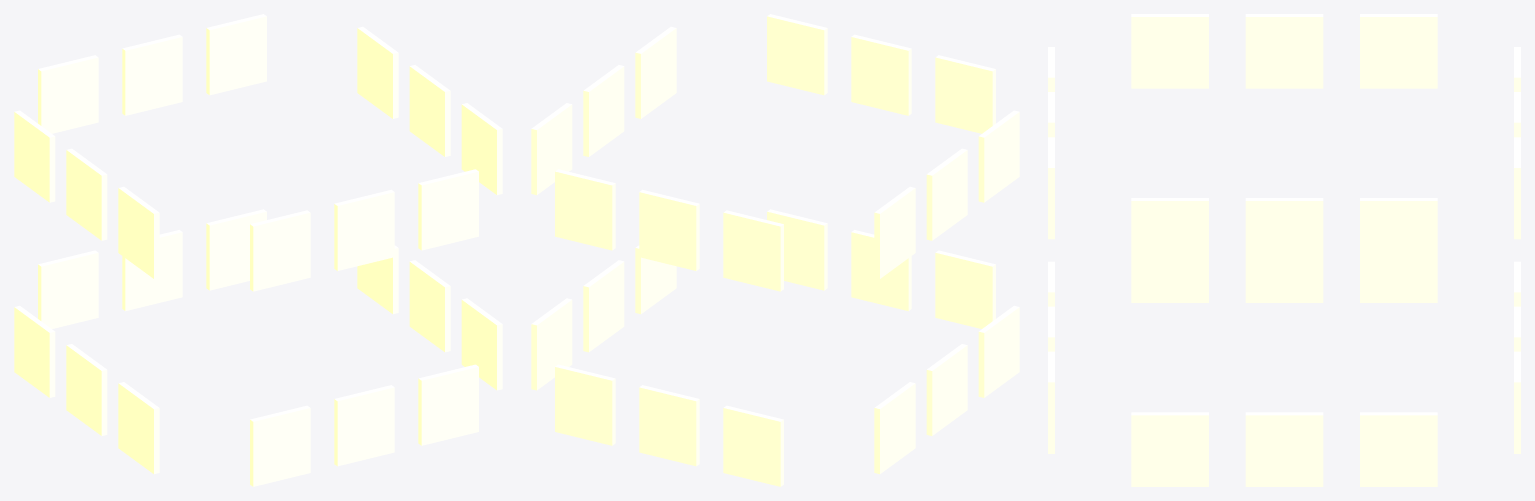
File: building-d.glb
3 views of the same model, side by side, from view 1: azimuth 30°, elevation 25°; view 2: azimuth 150°, elevation 25°; view 3: azimuth 270°, elevation 25° (orthographic). The views are drawn at different scales.
Visible parts, largest first — view 1: WindowLight_back_1_1, WindowLight_front_0_1, WindowLight_front_0_2, WindowLight_front_1_2, WindowLight_back_1_2, WindowLight_front_0_0, WindowLight_front_1_0, WindowLight_front_1_1, WindowLight_back_0_0, WindowLight_back_1_0, WindowLight_back_0_2, WindowLight_back_0_1 (+12 smaller); view 2: WindowLight_back_0_1, WindowLight_back_0_2, WindowLight_back_1_2, WindowLight_front_1_1, WindowLight_back_0_0, WindowLight_back_1_0, WindowLight_back_1_1, WindowLight_front_1_2, WindowLight_front_0_0, WindowLight_front_1_0, WindowLight_front_0_2, WindowLight_front_0_1 (+12 smaller); view 3: WindowLight_left_1_1, WindowLight_right_0_1, WindowLight_right_1_1, WindowLight_left_1_0, WindowLight_left_1_2, WindowLight_right_0_0, WindowLight_right_0_2, WindowLight_right_1_0, WindowLight_right_1_2, WindowLight_left_0_1, WindowLight_left_0_0, WindowLight_left_0_2 (+4 smaller).
Boxes of the visible parts, bbox=[...] form: WindowLight_back_1_1: bbox=[122, 34, 182, 115]; WindowLight_front_0_1: bbox=[334, 385, 394, 466]; WindowLight_front_0_2: bbox=[418, 364, 478, 445]; WindowLight_front_1_2: bbox=[418, 169, 478, 250]; WindowLight_back_1_2: bbox=[206, 14, 266, 95]; WindowLight_front_0_0: bbox=[250, 405, 310, 486]; WindowLight_front_1_0: bbox=[250, 210, 310, 291]; WindowLight_front_1_1: bbox=[334, 189, 394, 270]; WindowLight_back_0_0: bbox=[38, 250, 98, 328]; WindowLight_back_1_0: bbox=[38, 55, 98, 133]; WindowLight_back_0_2: bbox=[206, 209, 266, 290]; WindowLight_back_0_1: bbox=[122, 230, 182, 311]; WindowLight_back_0_1: bbox=[639, 385, 699, 466]; WindowLight_back_0_2: bbox=[555, 364, 615, 445]; WindowLight_back_1_2: bbox=[555, 169, 615, 250]; WindowLight_front_1_1: bbox=[851, 34, 911, 115]; WindowLight_back_0_0: bbox=[723, 405, 783, 486]; WindowLight_back_1_0: bbox=[723, 210, 783, 291]; WindowLight_back_1_1: bbox=[639, 189, 699, 270]; WindowLight_front_1_2: bbox=[767, 14, 827, 95]; WindowLight_front_0_0: bbox=[935, 250, 995, 328]; WindowLight_front_1_0: bbox=[935, 55, 995, 133]; WindowLight_front_0_2: bbox=[767, 209, 827, 290]; WindowLight_front_0_1: bbox=[851, 230, 911, 311]; WindowLight_left_1_1: bbox=[1245, 14, 1323, 88]; WindowLight_right_0_1: bbox=[1245, 412, 1323, 486]; WindowLight_right_1_1: bbox=[1245, 198, 1323, 272]; WindowLight_left_1_0: bbox=[1131, 14, 1208, 88]; WindowLight_left_1_2: bbox=[1360, 14, 1437, 88]; WindowLight_right_0_0: bbox=[1131, 412, 1208, 486]; WindowLight_right_0_2: bbox=[1360, 412, 1437, 486]; WindowLight_right_1_0: bbox=[1131, 198, 1208, 272]; WindowLight_right_1_2: bbox=[1360, 198, 1437, 272]; WindowLight_left_0_1: bbox=[1245, 272, 1323, 302]; WindowLight_left_0_0: bbox=[1131, 272, 1208, 302]; WindowLight_left_0_2: bbox=[1360, 272, 1437, 302].
Size of the model in its own units: 0.87 by 0.6206 by 0.93.
